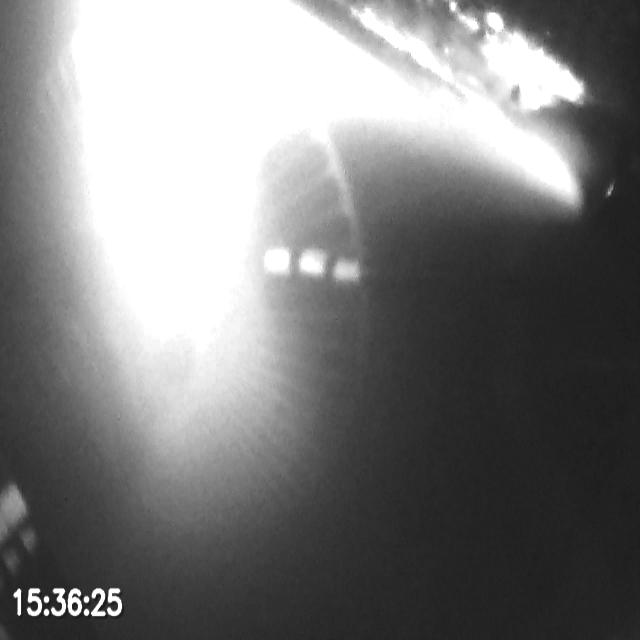white-dots: (262, 244, 363, 285)
